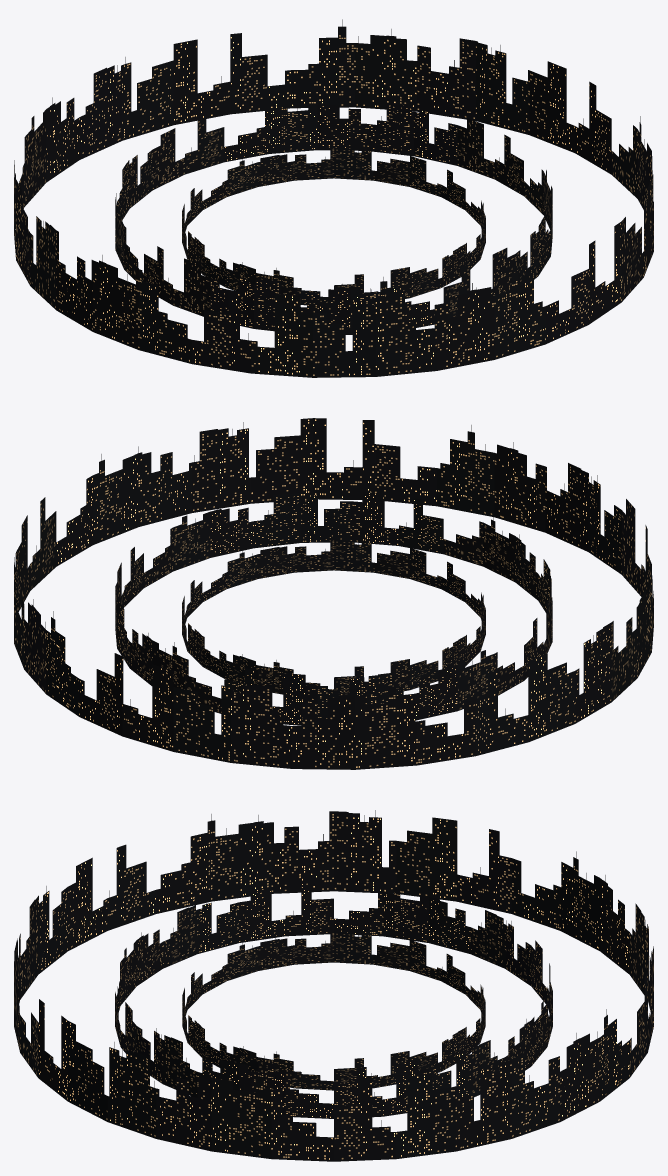
The model's file is skyline.glb.
3 renders of one model, top to bottom at view 1: azimuth 30°, elevation 25°; view 2: azimuth 150°, elevation 25°; view 3: azimuth 270°, elevation 25°, orthographic.
Visible parts, largest first — view 1: skyline; view 2: skyline; view 3: skyline.
Boxes of the visible parts, x1,y1,x2,y2 form: skyline: (14, 19, 653, 377); skyline: (14, 418, 653, 769); skyline: (14, 810, 653, 1161).
Size of the model in its own units: 760 by 122 by 760.
Materials: 1 (1 with a texture image).
